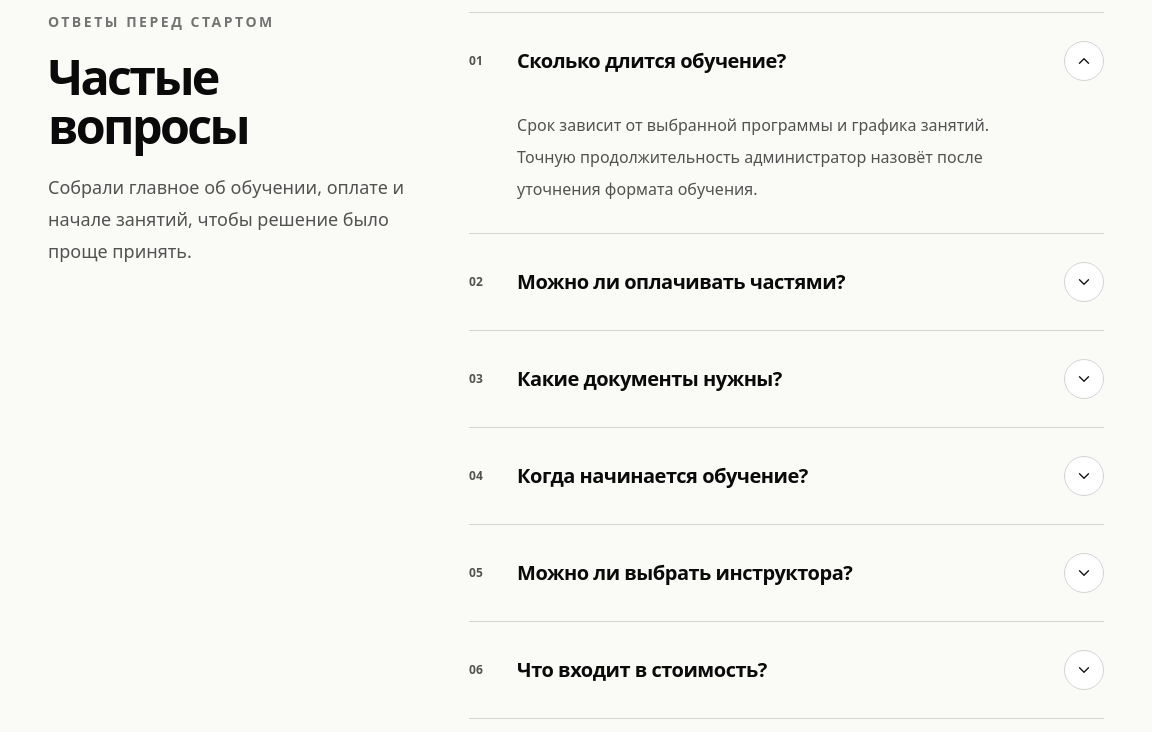
Scenario: FaqSection › keeps only one answer open at a time
Click the button "02 Можно ли оплачивать частями?": (787, 282) [469, 234, 1104, 330]
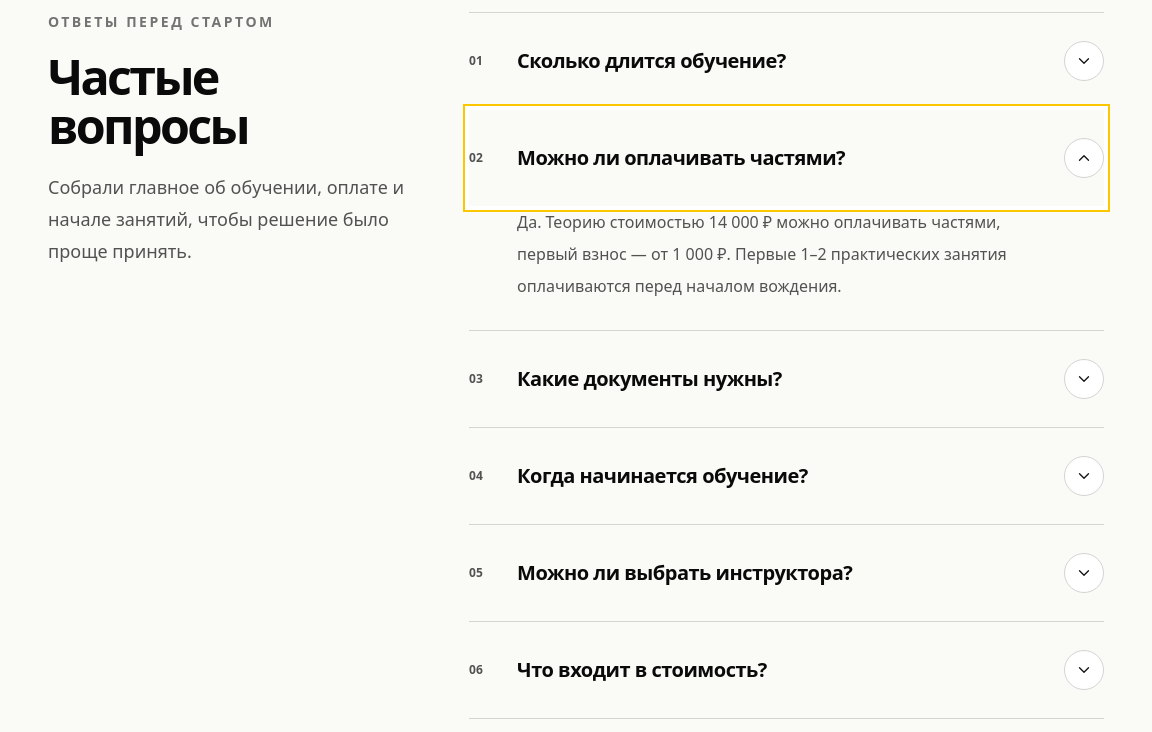
Expected: the button "01 Сколько длится обучение?" is collapsed, [469, 13, 1104, 109]
Expected: the button "02 Можно ли оплачивать частями?" is expanded, [469, 110, 1104, 206]
Expected: the text "первый взнос — от 1 000 ₽" is shown, [517, 211, 1007, 297]
